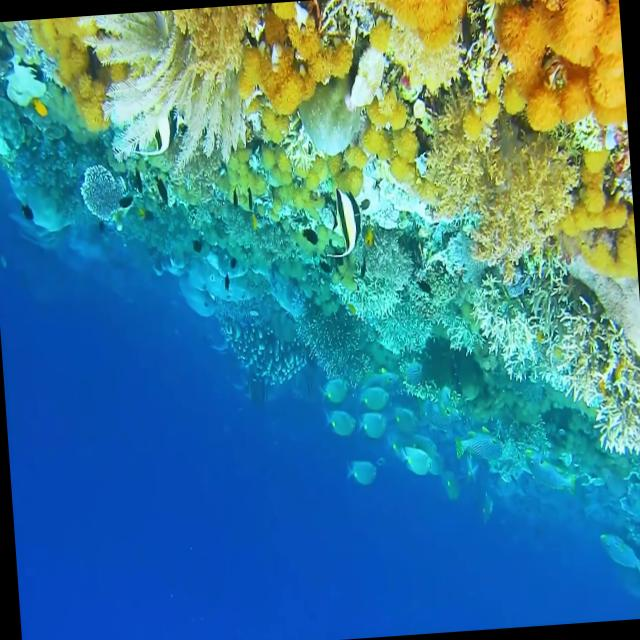fish: (310, 184, 380, 275), (587, 520, 640, 588)
